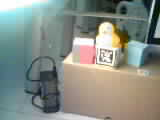duck: (95, 15, 127, 47)
